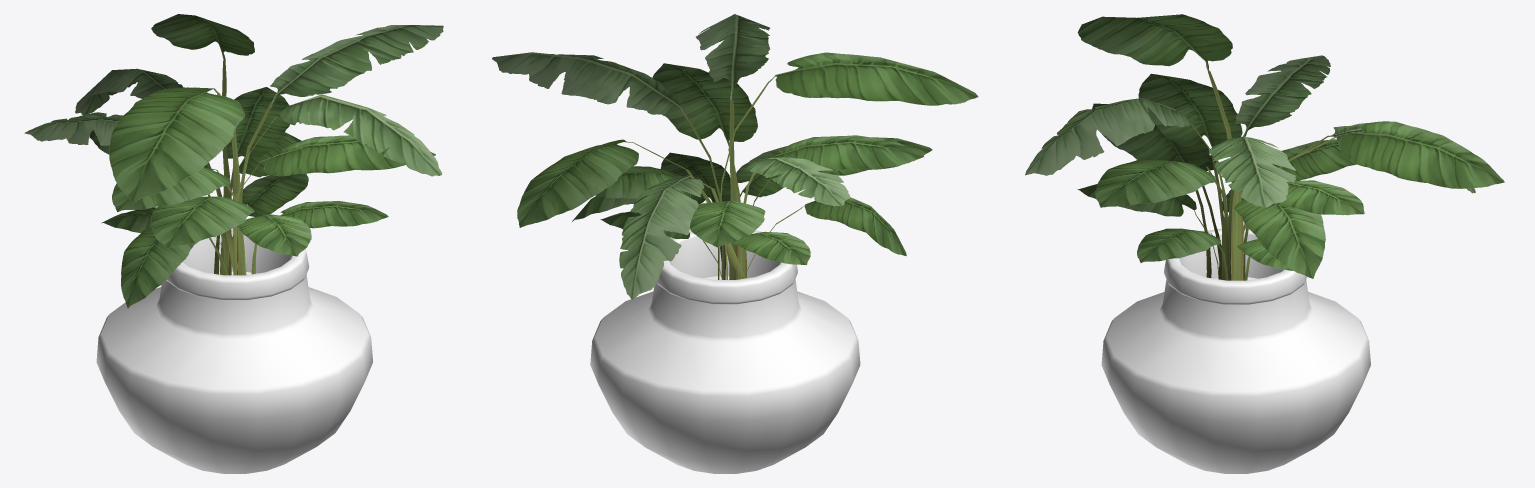
Rendered from SM_Potted_Banana_Leafs.fbx.
3 views of the same model, side by side, from view 1: azimuth 30°, elevation 25°; view 2: azimuth 150°, elevation 25°; view 3: azimuth 270°, elevation 25° (orthographic). The views are drawn at different scales.
Visible parts, largest first — view 1: SM_Potted_Banana_Leafs_LOD0; view 2: SM_Potted_Banana_Leafs_LOD0; view 3: SM_Potted_Banana_Leafs_LOD0.
Part boxes in pixels (x1,y1,x2,y2): SM_Potted_Banana_Leafs_LOD0: (24,14,443,473); SM_Potted_Banana_Leafs_LOD0: (492,14,978,473); SM_Potted_Banana_Leafs_LOD0: (1025,14,1504,473).
Bounding box in the file's own units: 74.48 × 80.01 × 66.59.
2 materials, 1 textured.
